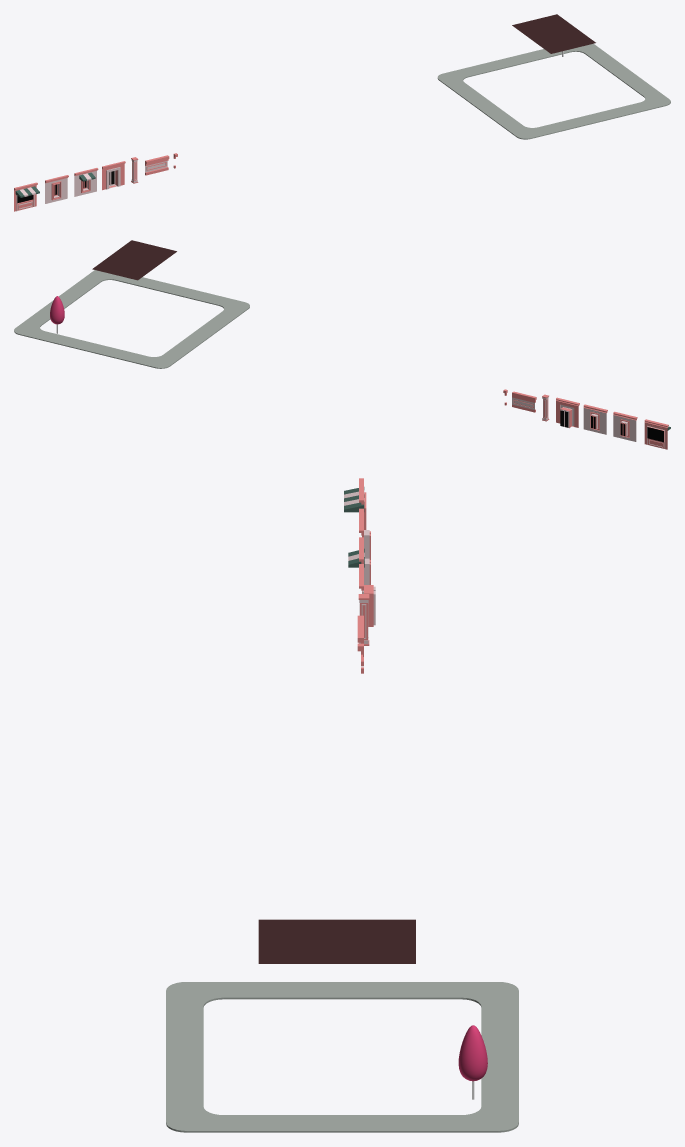
Rendered from Procedural Building.fbx.
3 renders of one model, top to bottom at view 1: azimuth 30°, elevation 25°; view 2: azimuth 150°, elevation 25°; view 3: azimuth 270°, elevation 25°, orthographic. The views are drawn at different scales.
Visible parts, largest first — view 1: Plane.008, Procedural Building, G-Windows, G-Door, window2, window1, Roof; view 2: Plane.008, Procedural Building, G-Windows, window2, G-Door, window1, Roof, Cube.002; view 3: Plane.008, Procedural Building, Cube.002.
Part boxes in pixels (box(x1,y1,x2,y2)): Plane.008: box(437, 43, 670, 139); Procedural Building: box(512, 14, 595, 53); G-Windows: box(14, 182, 39, 211); G-Door: box(102, 161, 125, 190); window2: box(74, 168, 98, 196); window1: box(45, 175, 68, 203); Roof: box(145, 155, 169, 175); Plane.008: box(14, 270, 249, 368); Procedural Building: box(92, 240, 176, 280); G-Windows: box(644, 419, 670, 449); window2: box(583, 404, 607, 434); G-Door: box(556, 397, 579, 428); window1: box(613, 411, 637, 441); Roof: box(512, 391, 536, 412); Cube.002: box(50, 296, 64, 333); Plane.008: box(166, 982, 518, 1132); Procedural Building: box(258, 919, 415, 963); Cube.002: box(458, 1025, 487, 1099).
Size of what is drawn, in the model's own units: 2693 by 244 by 673.
